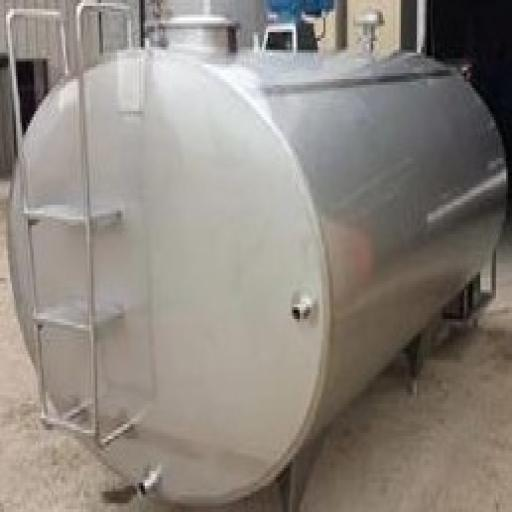silo: (5, 18, 510, 509)
